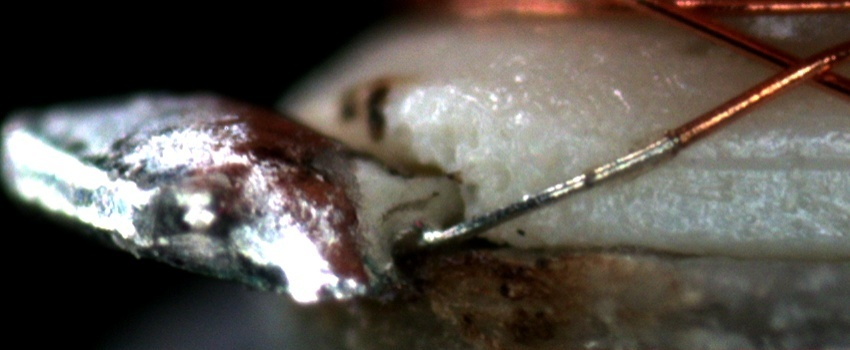CL: (755, 42, 844, 94)
DL: (674, 132, 850, 193)
TS: (408, 134, 677, 245)
